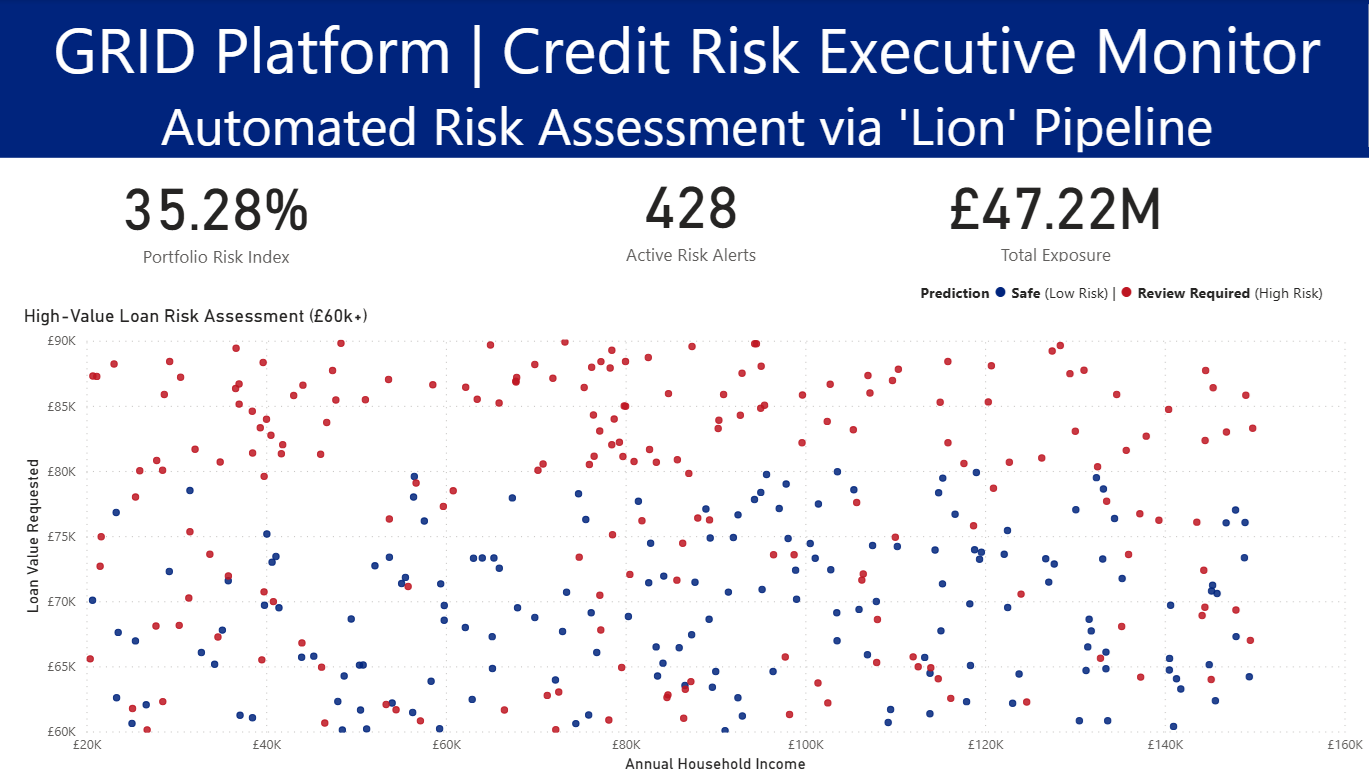

The page's visual inventory and layout, read from the dashboard file:
{"tool":"powerbi","page":{"name":"Page 1","canvas":[1280,720],"ordinal":0},"visuals":[{"type":"card","fields":{"Values":["Avg(public fact_credit_predictions.probability_score)"]},"box":[17.7,148.3,365.9,99.9],"z":0},{"type":"card","fields":{"Values":["public fact_credit_predictions.High Risk Count"]},"box":[461.1,146.7,359.5,101.6],"z":1000},{"type":"card","fields":{"Values":["public fact_credit_predictions.Total Loans"]},"box":[870.5,146.7,261.2,101.6],"z":2000},{"type":"scatterChart","title":"High-Value Loan Risk Assessment (£60k+)","fields":{"Category":["public fact_credit_predictions.client_key"],"X":["Sum(public fact_credit_predictions.annual_income)"],"Y":["Sum(public fact_credit_predictions.loan_amount)"],"Series":["public fact_credit_predictions.prediction_label"]},"box":[18.1,260.9,1248.8,459.1],"z":3000},{"type":"textbox","box":[0,0,1280,146.7],"z":4000}]}

Visuals, with their boxes in screenshot pixels (x1, y1, x2, y2), scaled from the page's 1280x720 canvas onto the 1369x774 screenshot:
card - Avg(public fact_credit_predictions.probability_score): rect(19, 159, 410, 267)
card - public fact_credit_predictions.High Risk Count: rect(493, 158, 878, 267)
card - public fact_credit_predictions.Total Loans: rect(931, 158, 1210, 267)
"High-Value Loan Risk Assessment (£60k+)" scatterChart: rect(19, 280, 1355, 773)
textbox: rect(0, 0, 1368, 158)
